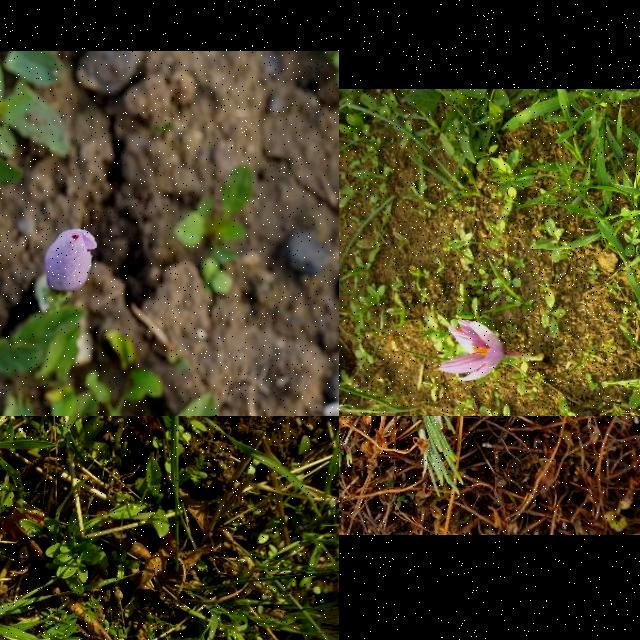flower: (439, 319, 509, 381), (44, 229, 96, 291)
